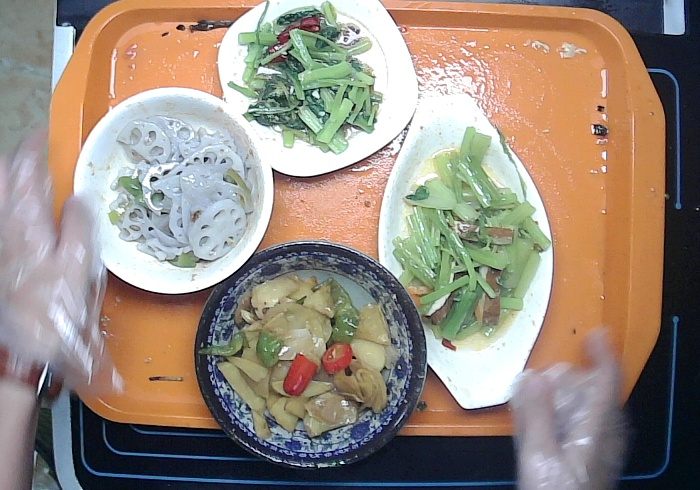ZNLD-Qing_Hua_Wan: (188, 236, 433, 480)
ZNLD-Si_Fang_Wan: (216, 1, 424, 181)
ZNLD-Tang_Wan: (68, 84, 278, 300)
ZNLD-Yu_Pan: (373, 90, 557, 412)
